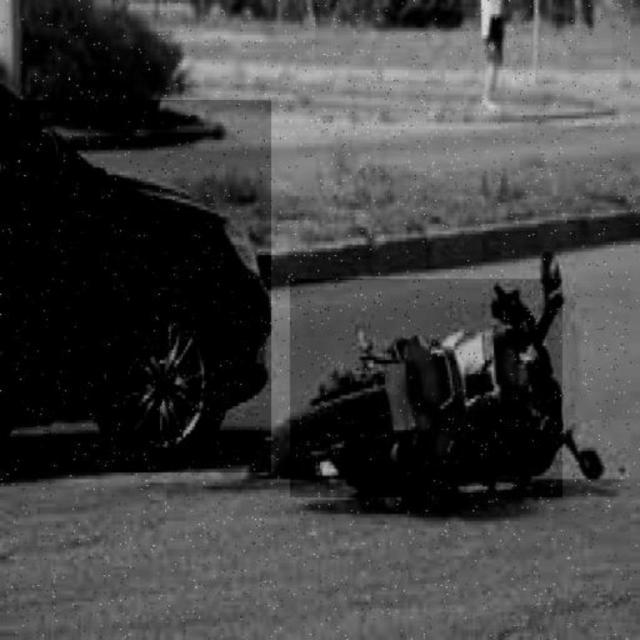vehicle: (2, 101, 272, 473), (290, 279, 563, 497)
